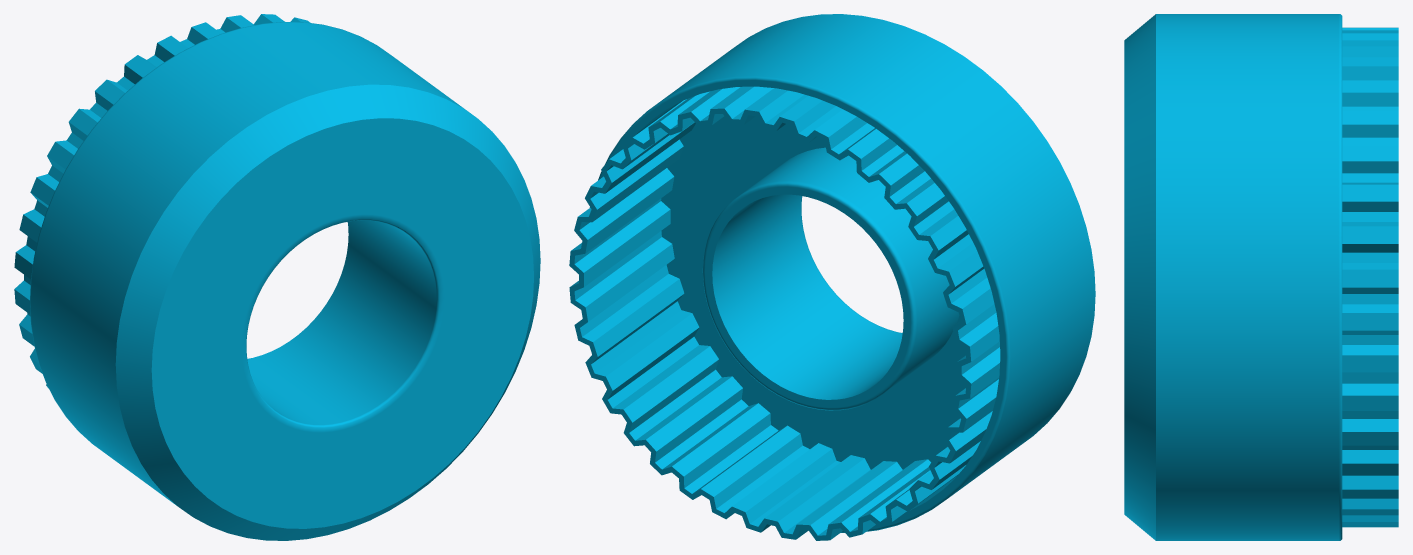
3 views of the same model, side by side, from view 1: azimuth 30°, elevation 25°; view 2: azimuth 150°, elevation 25°; view 3: azimuth 270°, elevation 25° (orthographic). The views are drawn at different scales.
Parts seen in each view (by area): view 1: MMC617; view 2: MMC617; view 3: MMC617.
Boxes of the visible parts, x1,y1,x2,y2 form: MMC617: (14, 14, 540, 540); MMC617: (569, 14, 1095, 540); MMC617: (1124, 14, 1398, 540).
Bounding box in the file's own units: 1500 × 1500 × 780.
